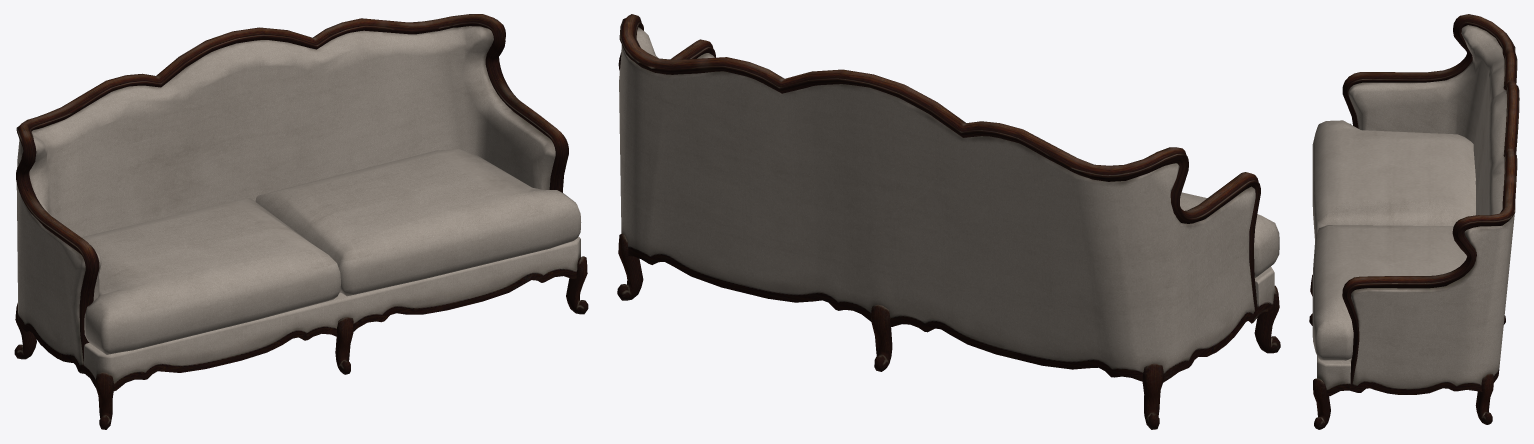
The model's file is Sofa03.glb.
3 renders of one model, left to right at view 1: azimuth 30°, elevation 25°; view 2: azimuth 150°, elevation 25°; view 3: azimuth 270°, elevation 25°, orthographic. The views are drawn at different scales.
Parts seen in each view (by area): view 1: sofa_3; view 2: sofa_3; view 3: sofa_3.
Boxes of the visible parts, x1,y1,x2,y2 form: sofa_3: [14, 14, 588, 429]; sofa_3: [617, 14, 1280, 429]; sofa_3: [1309, 14, 1519, 429].
Size of the model in its own units: 1.57 by 0.7965 by 0.658.
Materials: 1 (1 with a texture image).
